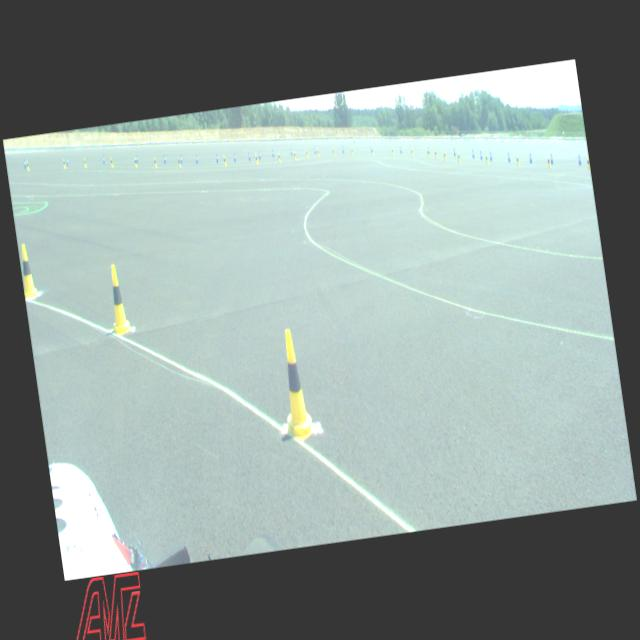blue_cone: (528, 152, 532, 164), (578, 154, 582, 165), (258, 150, 262, 160), (550, 154, 554, 164), (507, 152, 510, 162), (136, 154, 139, 164), (180, 154, 183, 164), (102, 156, 106, 163), (233, 153, 236, 162), (248, 152, 251, 161), (66, 157, 69, 166), (216, 154, 219, 162), (290, 148, 293, 156), (453, 148, 456, 156), (472, 150, 475, 158), (272, 150, 275, 158), (196, 154, 198, 164), (164, 154, 166, 164), (480, 151, 482, 160), (24, 159, 26, 168), (490, 151, 492, 160), (314, 146, 316, 154), (400, 146, 402, 154), (342, 146, 344, 153)
yellow_cone: (273, 328, 317, 442), (103, 264, 133, 336), (18, 243, 39, 298), (515, 154, 520, 166), (456, 152, 461, 162), (134, 156, 138, 168), (546, 156, 550, 167), (586, 157, 590, 168), (443, 150, 447, 160), (110, 158, 114, 168), (154, 158, 158, 168), (26, 160, 30, 170), (255, 154, 258, 165), (316, 148, 320, 156), (485, 154, 488, 164), (63, 158, 66, 168), (178, 158, 181, 168), (278, 153, 281, 162), (351, 148, 354, 156), (411, 148, 414, 156), (391, 147, 394, 155), (434, 150, 437, 158), (224, 155, 226, 166), (294, 151, 296, 160), (427, 150, 430, 156), (84, 158, 86, 166), (306, 150, 308, 158), (332, 148, 334, 155), (372, 148, 374, 155)
